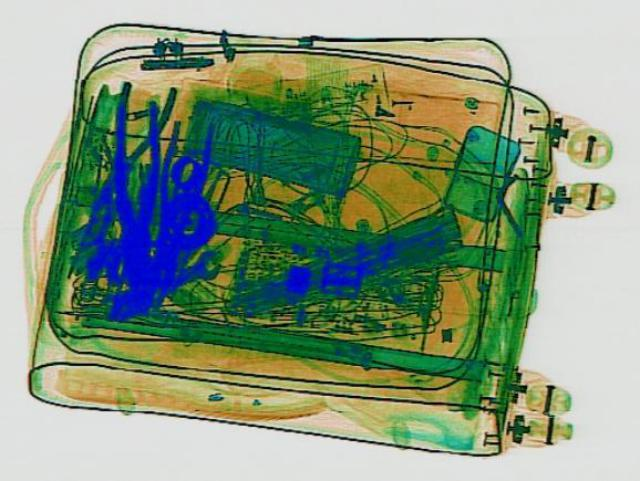Pliers: (61, 77, 178, 246), (109, 80, 165, 261)
Wrench: (95, 246, 233, 325)
